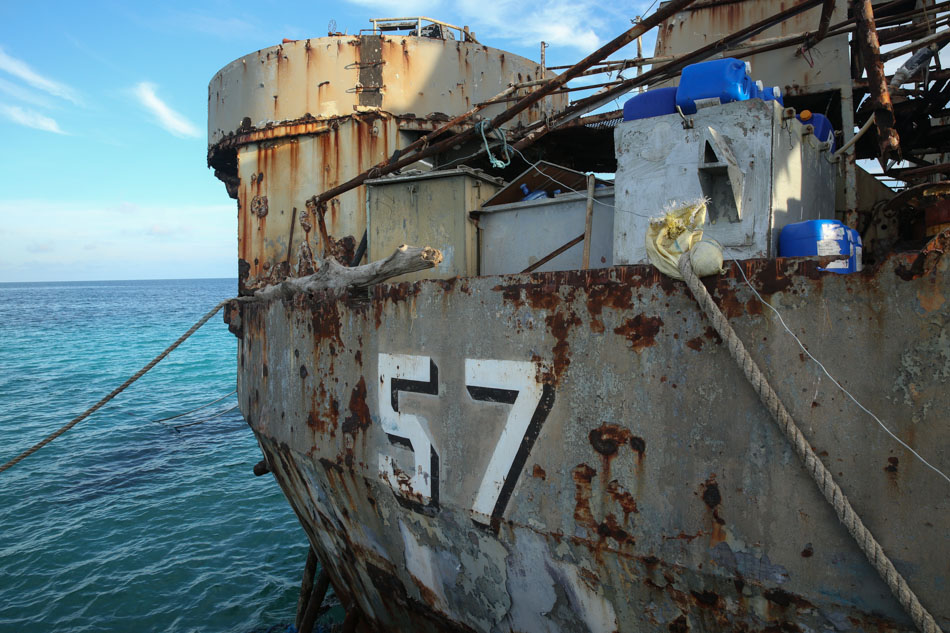rust: (502, 276, 678, 353), (568, 429, 657, 536), (257, 128, 360, 178), (289, 291, 381, 343), (301, 382, 374, 443)
